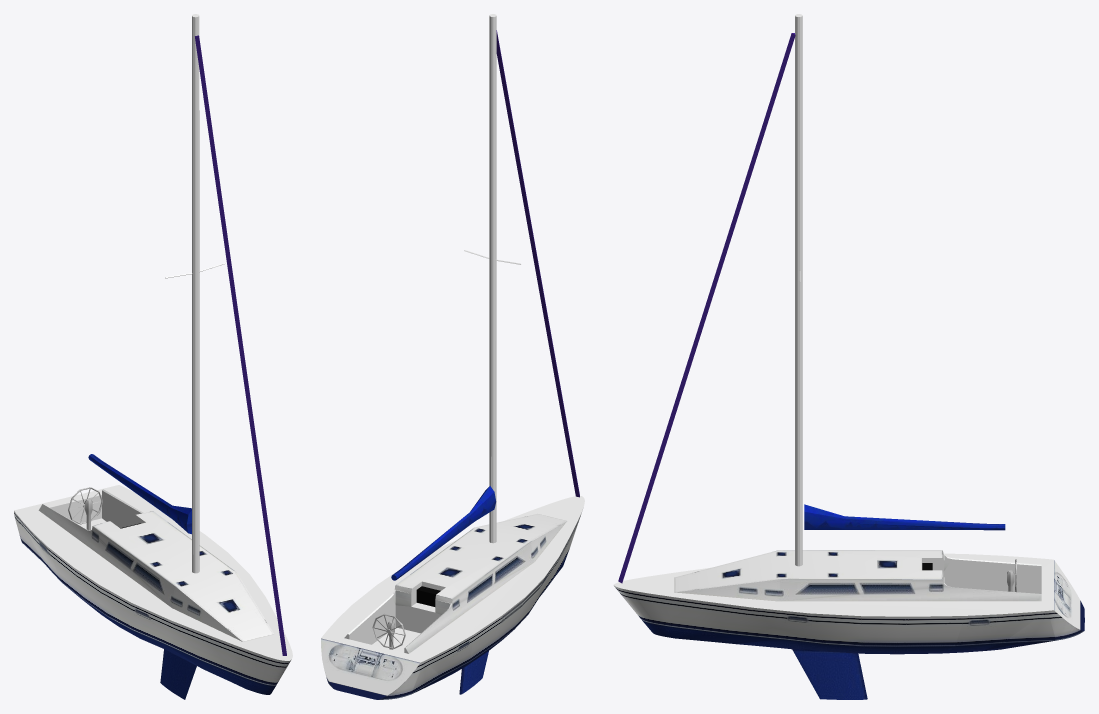
The model's file is yacht2.glb.
3 renders of one model, left to right at view 1: azimuth 30°, elevation 25°; view 2: azimuth 150°, elevation 25°; view 3: azimuth 270°, elevation 25°, orthographic. The views are drawn at different scales.
Size of the model in its own units: 1.22 by 6.09 by 3.81.
Materials: 5 (1 with a texture image).
